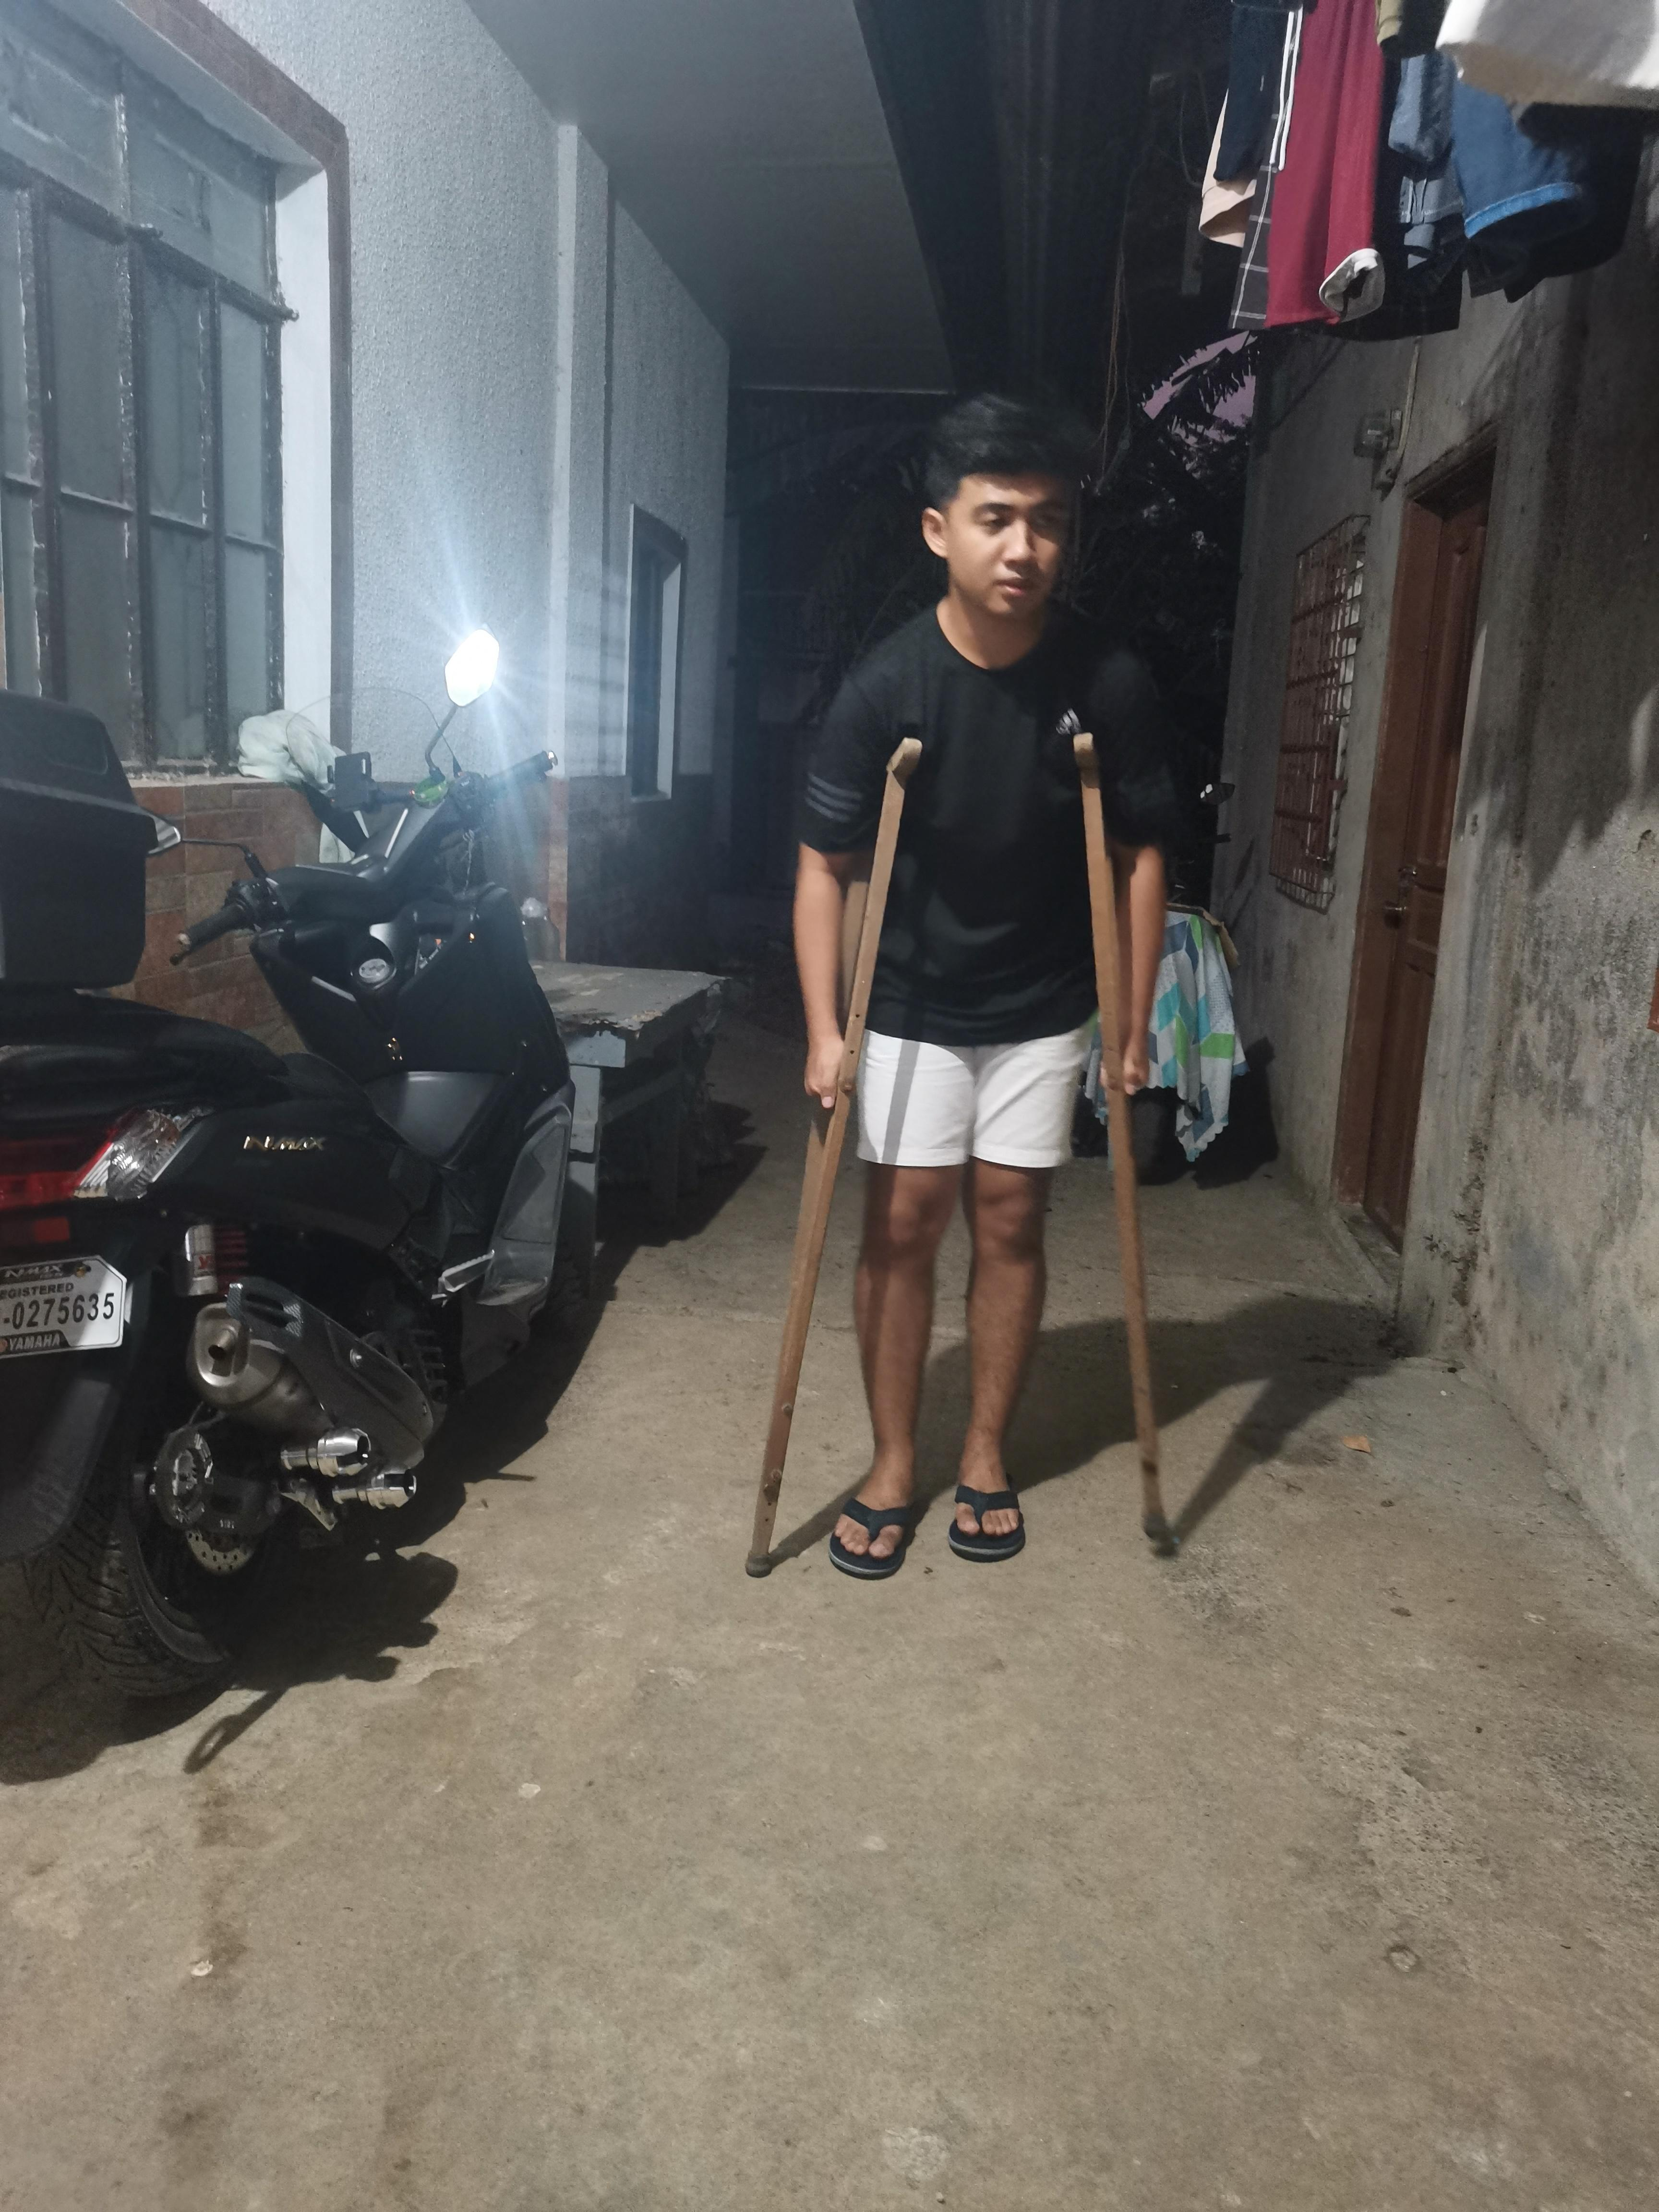crutches: (730, 376, 1194, 1594)
